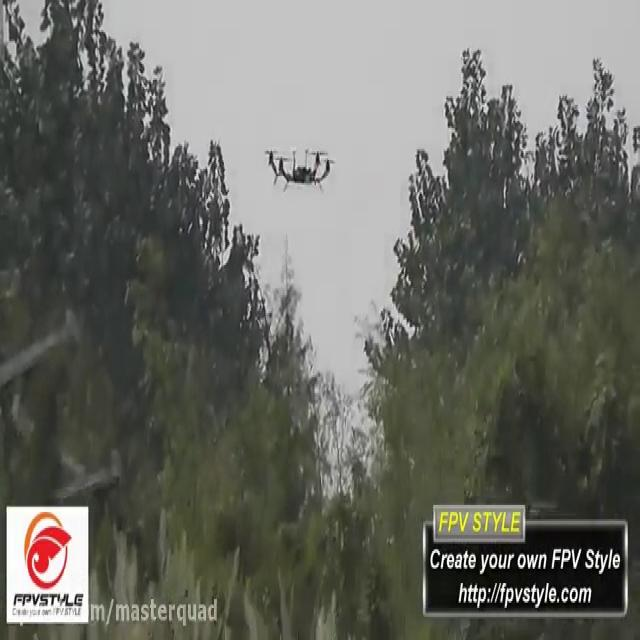drone: (260, 137, 338, 194)
